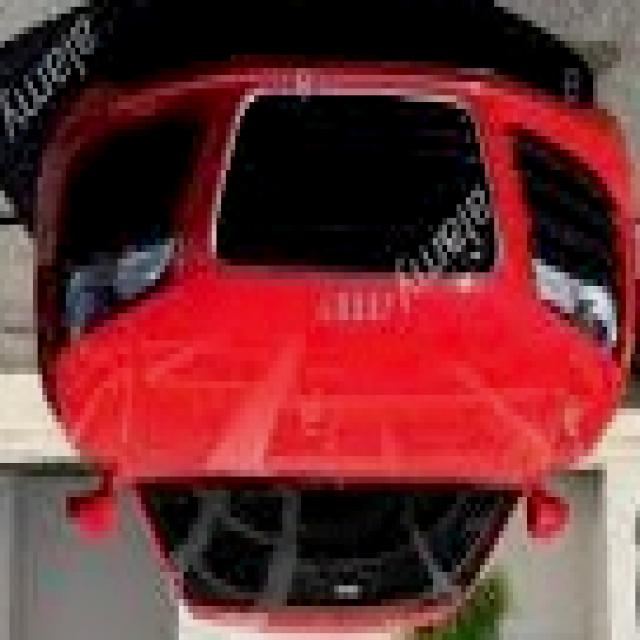red: (31, 67, 633, 635)
